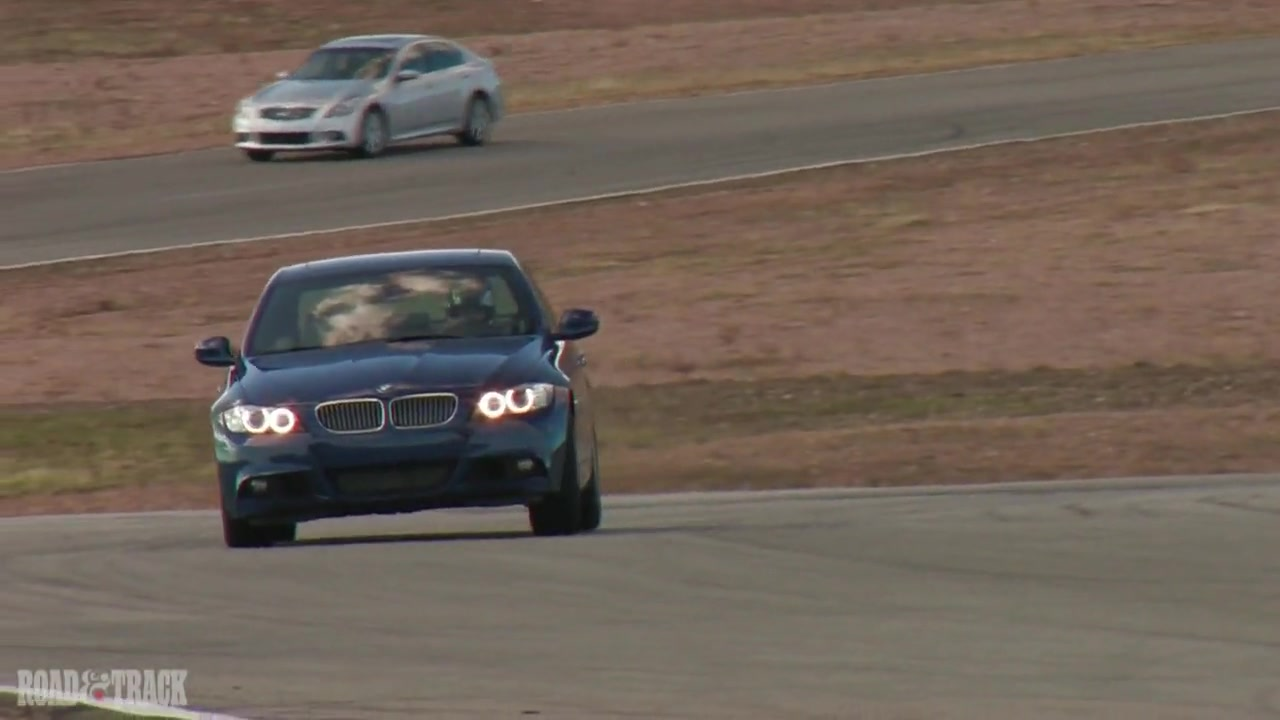car: (195, 250, 607, 549), (224, 35, 507, 163)
